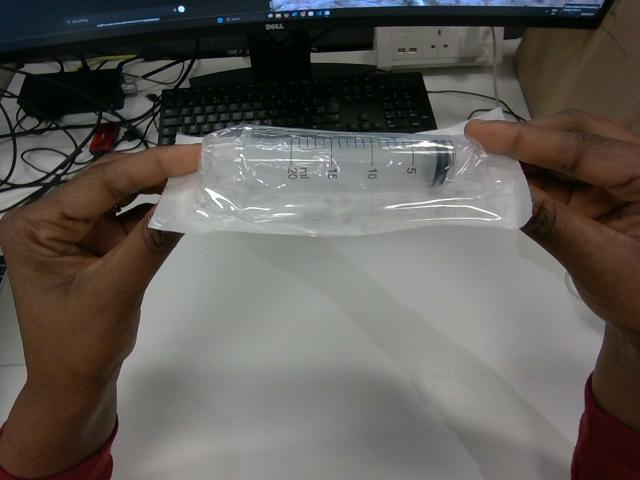syringe: (150, 125, 507, 235)
